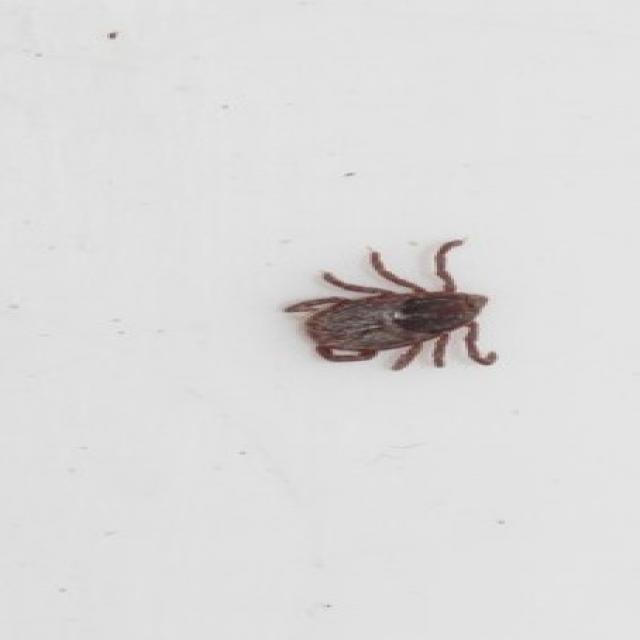Rhipicephalus Sanguineus-F: (282, 241, 496, 374)
